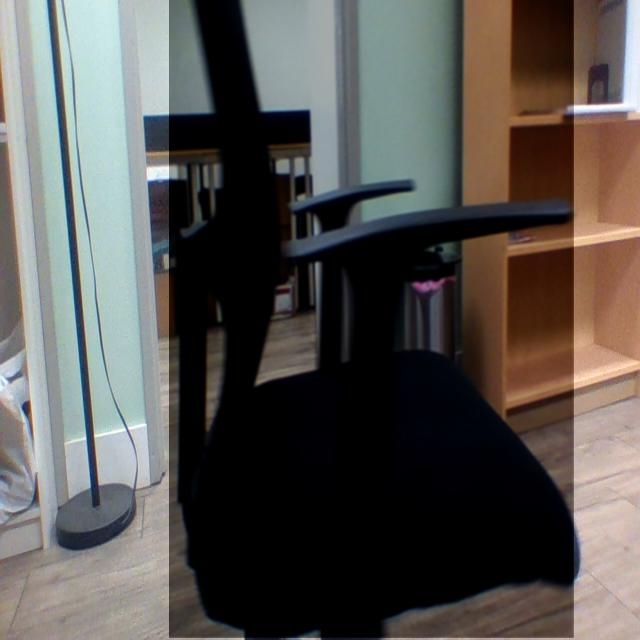black-chair: (169, 0, 575, 639)
